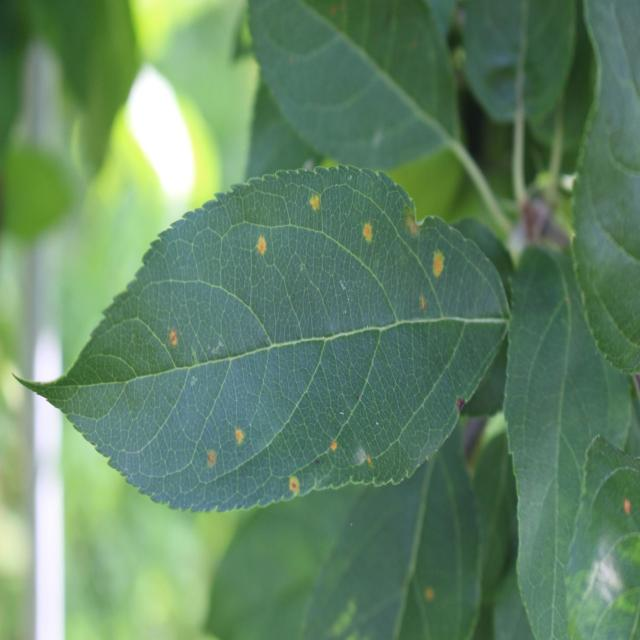Rust: (274, 461, 318, 513), (197, 438, 236, 494), (423, 235, 456, 285), (219, 413, 255, 454), (164, 321, 192, 366), (253, 221, 276, 264), (357, 216, 382, 254), (299, 190, 332, 216), (327, 425, 343, 461)
